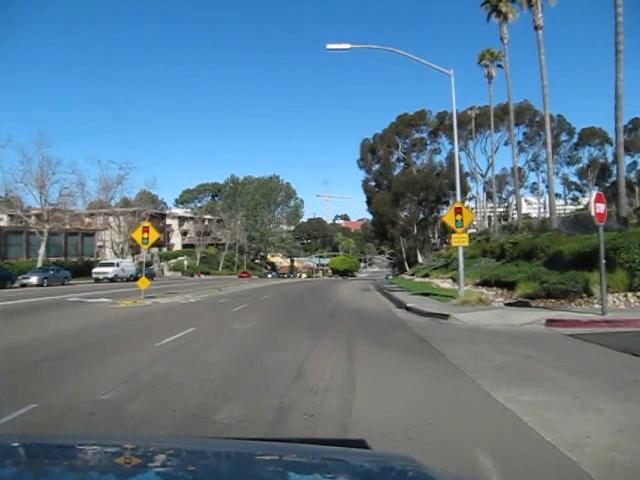signalAhead: (440, 200, 475, 234), (129, 219, 160, 248)
